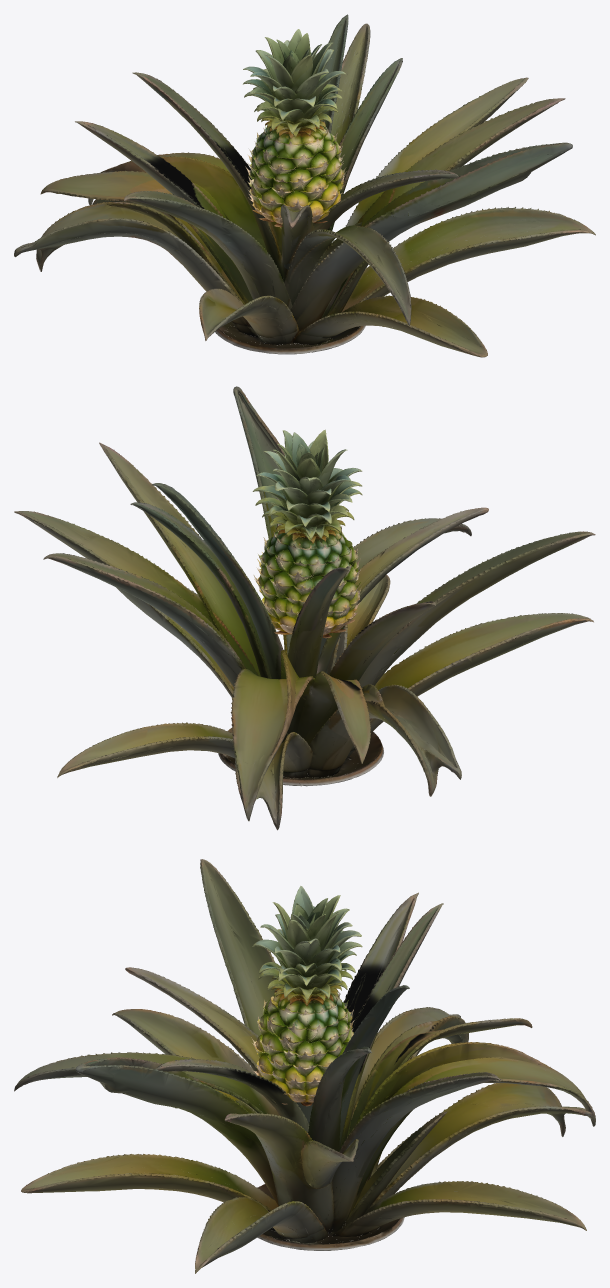
The model's file is zhizhuhuaezuizhongban-v1.glb.
The picture shows the model from 3 angles, top to bottom: view 1: azimuth 30°, elevation 25°; view 2: azimuth 150°, elevation 25°; view 3: azimuth 270°, elevation 25°; orthographic projection. The views are drawn at different scales.
Visible parts, largest first — view 1: node_0.001, node_0; view 2: node_0.001, node_0; view 3: node_0.001, node_0.
Part boxes in pixels (<box>): node_0.001: <box>14,14,595,357</box>; node_0: <box>242,29,347,226</box>; node_0.001: <box>14,386,595,830</box>; node_0: <box>252,429,362,638</box>; node_0.001: <box>14,859,595,1273</box>; node_0: <box>251,886,362,1106</box>.
Bounding box in the file's own units: 1.06 × 0.6508 × 1.03.
3 materials, 2 textured.
